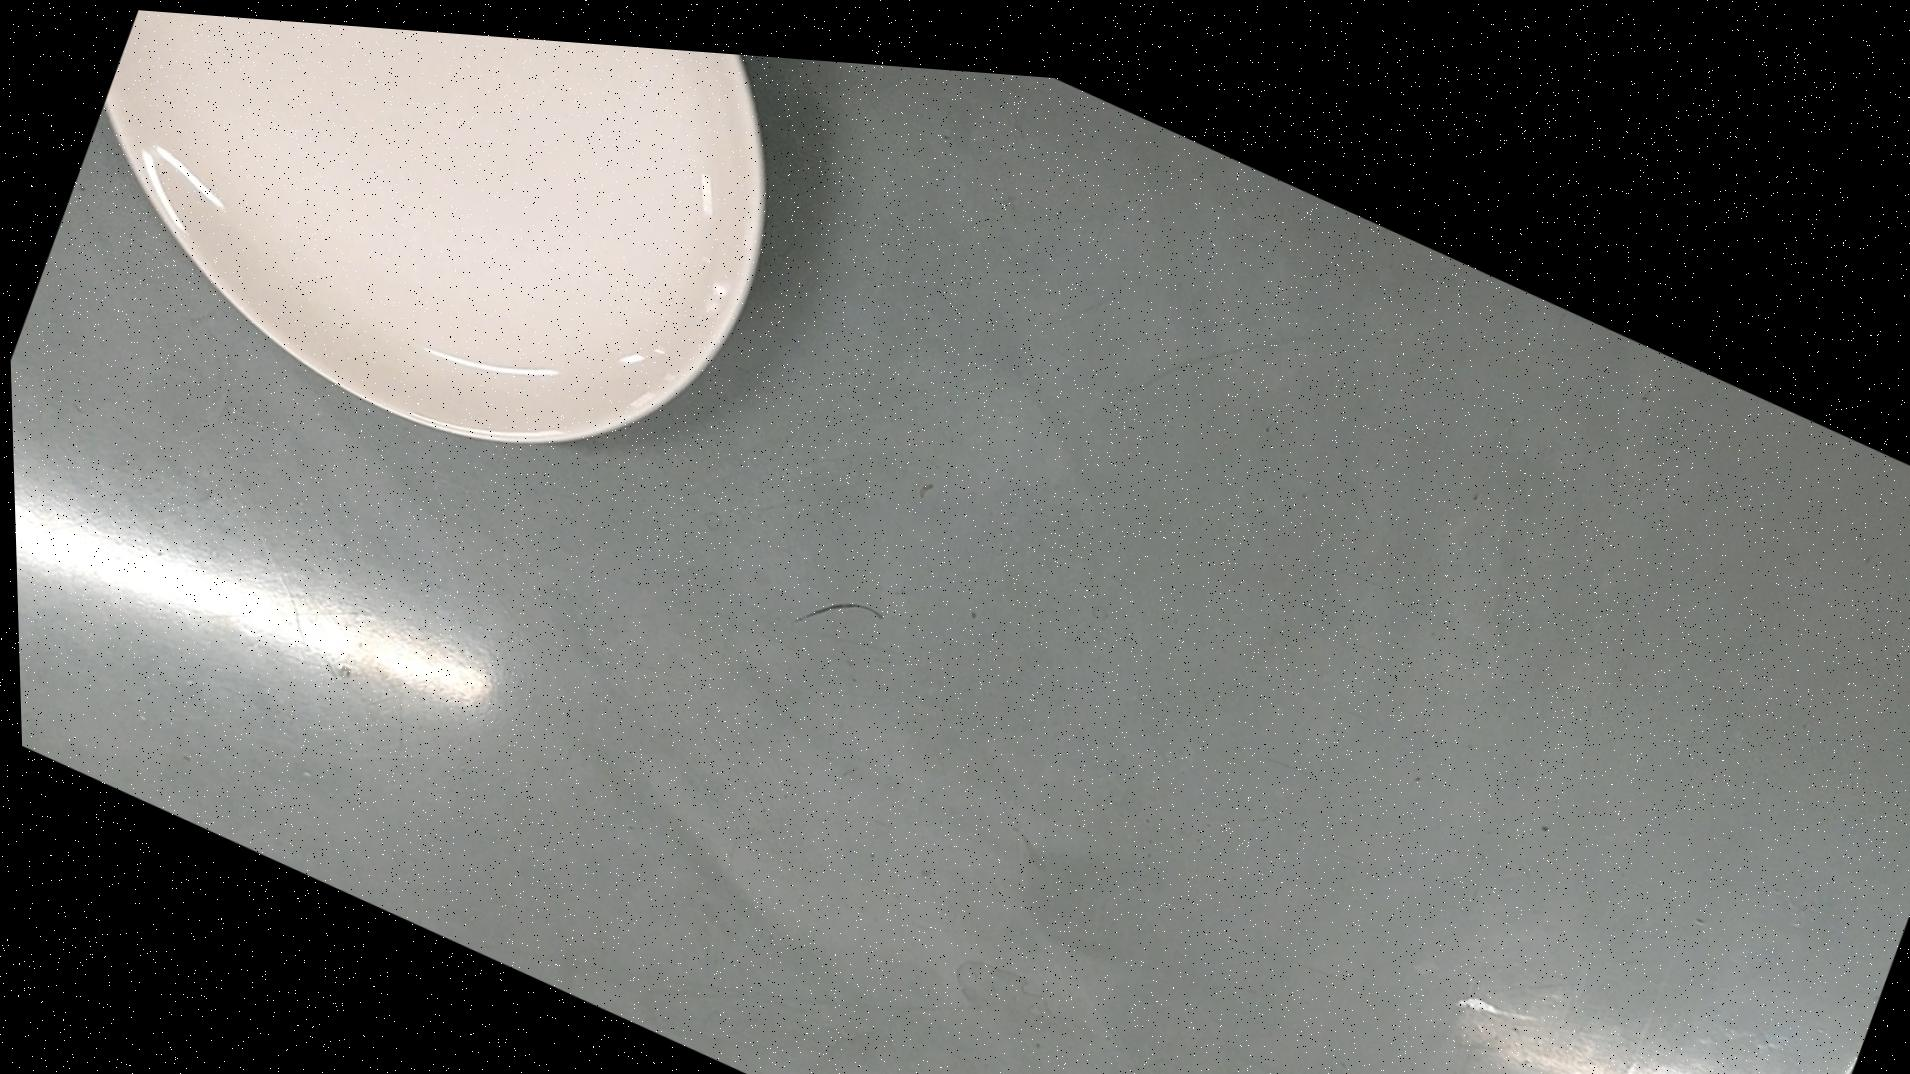plate: (39, 3, 870, 538)
